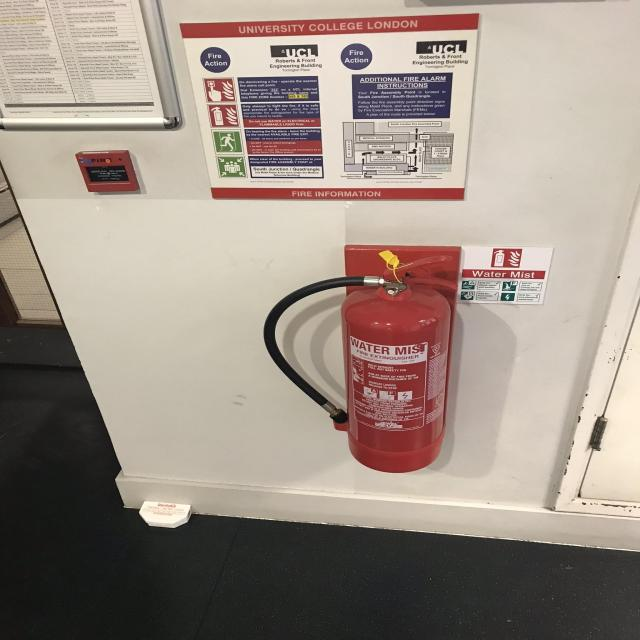fire_extinguisher: (258, 252, 463, 477)
